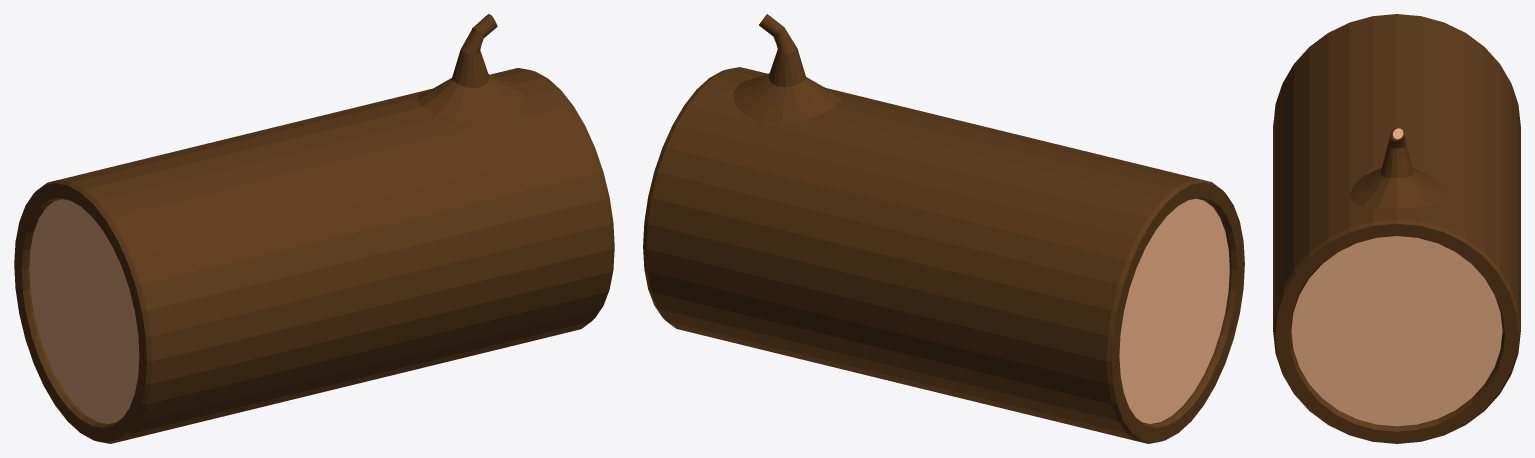
File: Log_2.glb
3 renders of one model, left to right at view 1: azimuth 30°, elevation 25°; view 2: azimuth 150°, elevation 25°; view 3: azimuth 270°, elevation 25°, orthographic. The views are drawn at different scales.
Visible parts, largest first — view 1: Original Log.002; view 2: Original Log.002; view 3: Original Log.002.
Boxes of the visible parts, <box> form: Original Log.002: <box>14,14,614,443</box>; Original Log.002: <box>643,14,1244,443</box>; Original Log.002: <box>1273,14,1520,443</box>.
Bounding box in the file's own units: 2.4 × 1.57 × 1.2.
